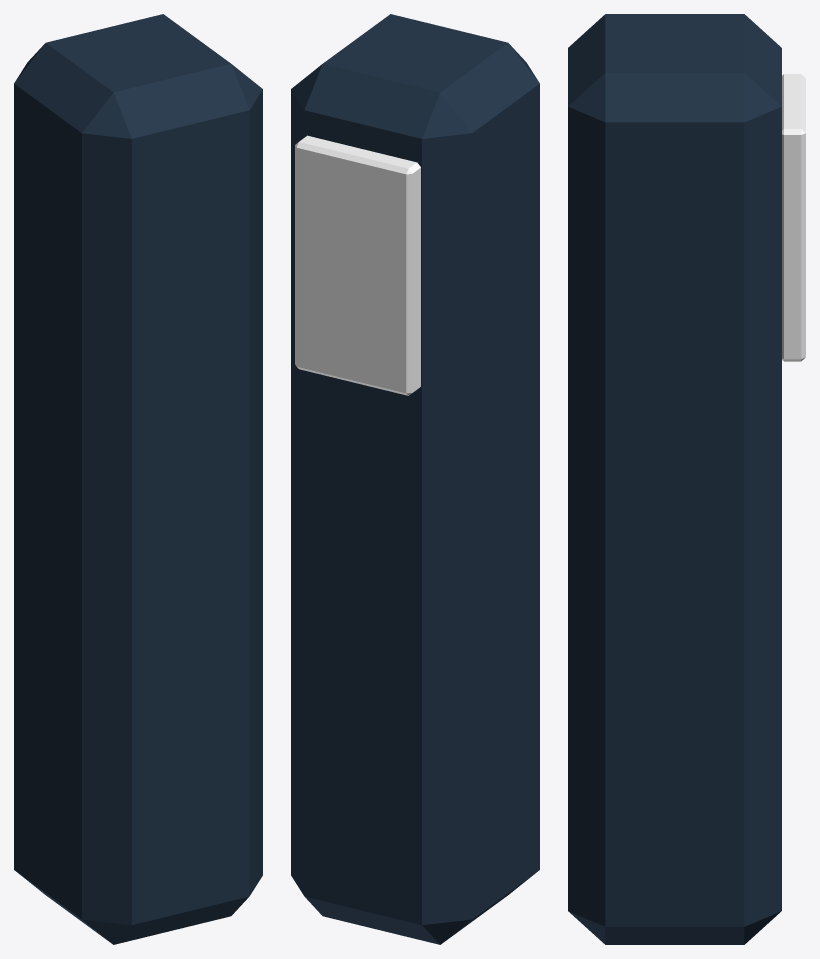
File: SM_Bollard.obj
3 views of the same model, side by side, from view 1: azimuth 30°, elevation 25°; view 2: azimuth 150°, elevation 25°; view 3: azimuth 270°, elevation 25° (orthographic). The views are drawn at different scales.
Visible parts, largest first — view 1: SM_Bollard; view 2: SM_Bollard; view 3: SM_Bollard.
Part boxes in pixels (box(x1,y1,x2,y2)): SM_Bollard: box(14, 14, 262, 944); SM_Bollard: box(291, 14, 539, 944); SM_Bollard: box(568, 14, 805, 944).
Size of the model in its own units: 0.2 by 0.9 by 0.2225.
